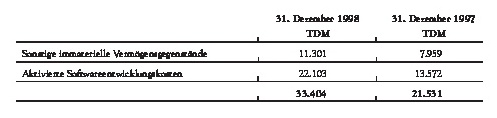table: (0, 0, 497, 118)
